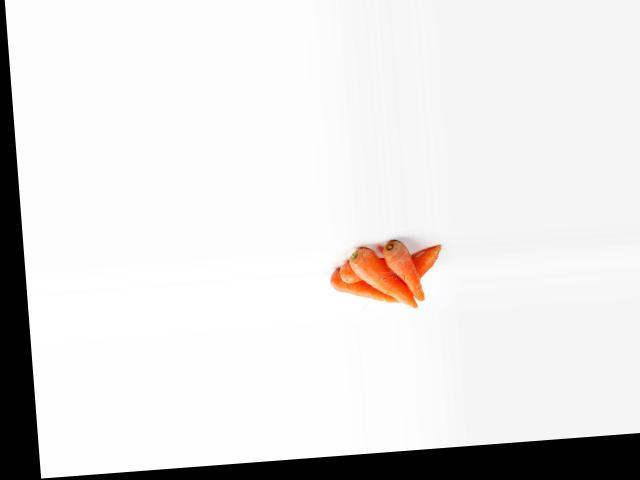carrot: (381, 237, 426, 302)
